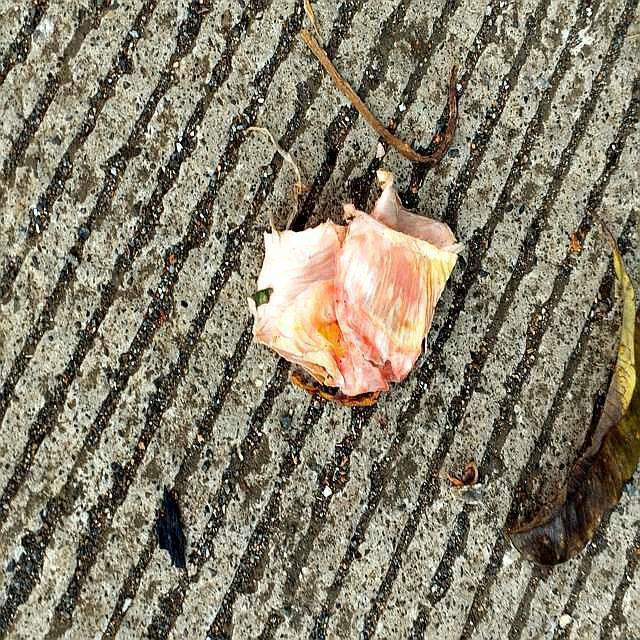Biodegradable: (250, 196, 473, 397)
